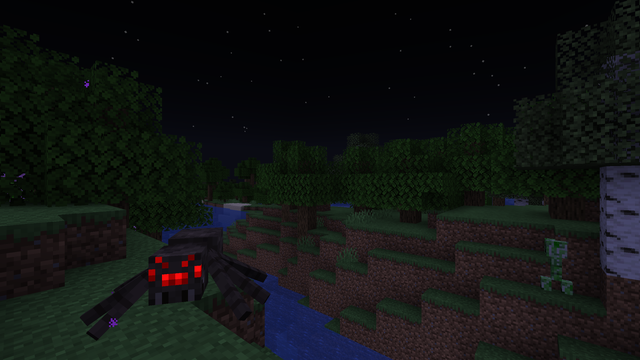araignees: (110, 222, 265, 352)
creepers: (543, 235, 568, 294)
